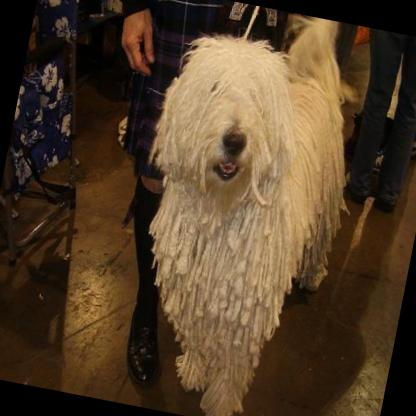komondor: (103, 0, 375, 416)
